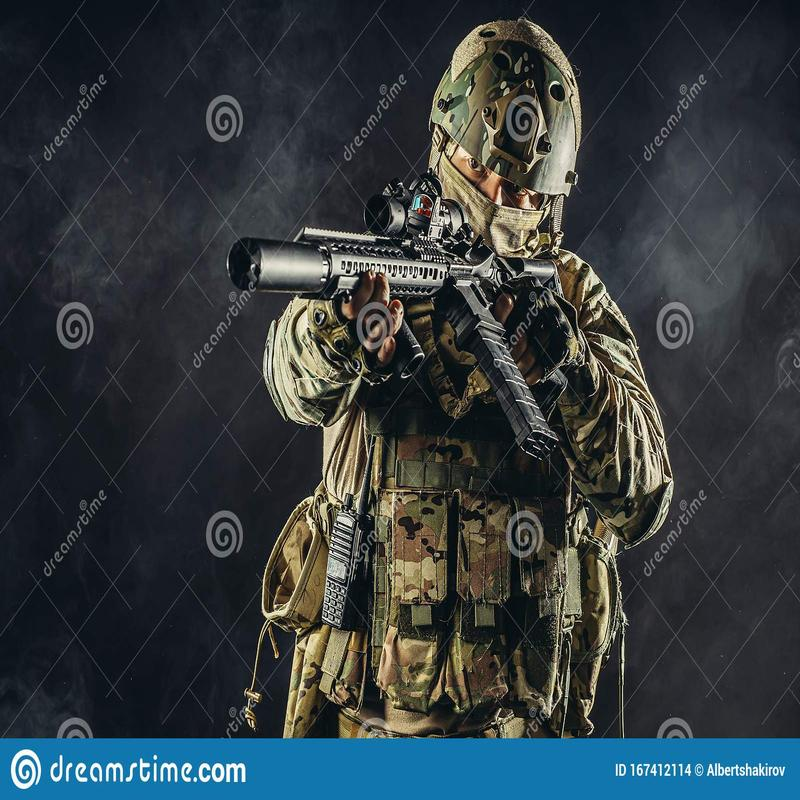GUN: (184, 153, 569, 470)
